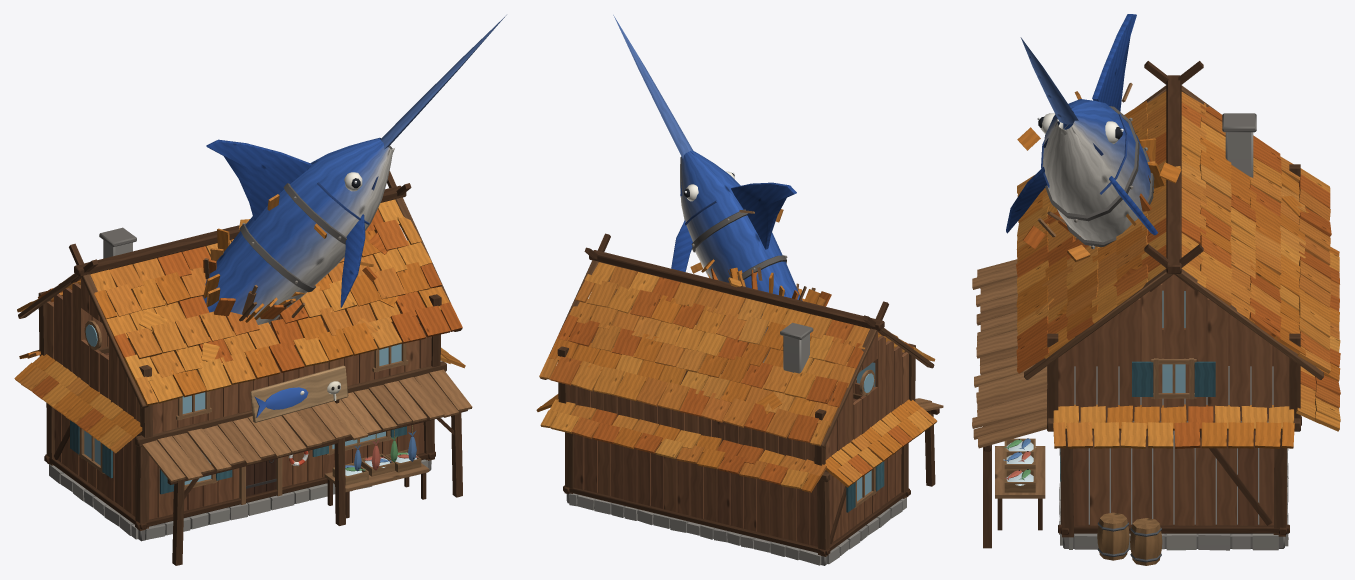
Rendered from fish-market.glb.
3 views of the same model, side by side, from view 1: azimuth 30°, elevation 25°; view 2: azimuth 150°, elevation 25°; view 3: azimuth 270°, elevation 25° (orthographic). The views are drawn at different scales.
Parts seen in each view (by area): view 1: fish-market; view 2: fish-market; view 3: fish-market.
Boxes of the visible parts, left/top/right/bottom form: fish-market: left=14, top=15, right=506, bottom=565; fish-market: left=536, top=15, right=943, bottom=565; fish-market: left=972, top=14, right=1340, bottom=565.
Size of the model in its own units: 10.44 by 11.98 by 7.31.
Materials: 6 (2 with a texture image).
